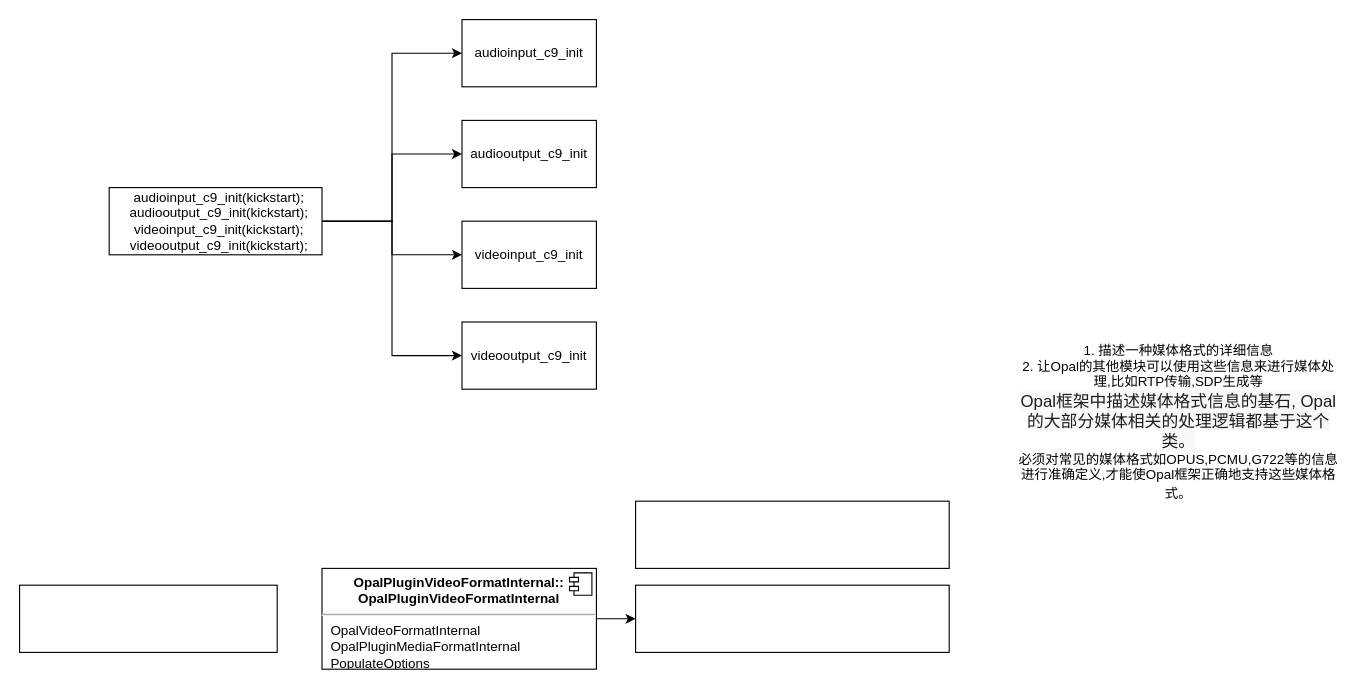
Image size: 1361x689. Some labels were removed from this diagram. Each missing label, with the centre of its shape:
"OpalMediaFormatInternal::OpalMediaFormatInternal" goes at pixel 791 534.
"OpalPluginMediaFormatInternal::PopulateOptions" goes at pixel 791 618.
"OpalPluginVideoFormatInternal::Clone()" goes at pixel 147 618.
